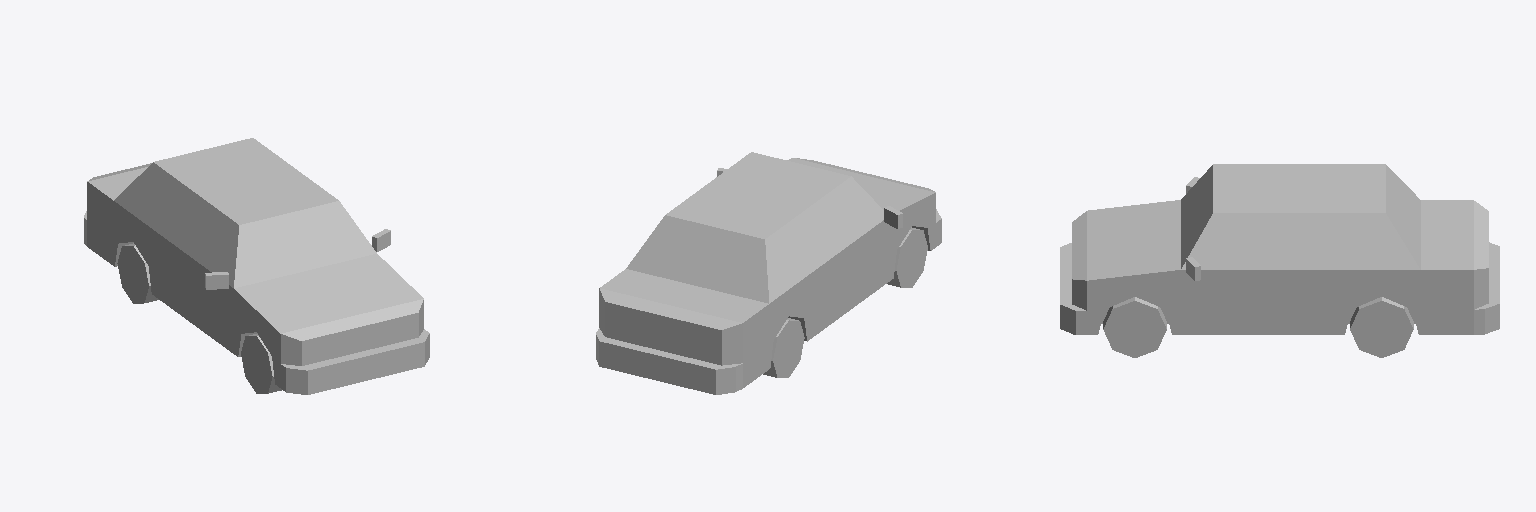
File: sedan_01_red.obj
3 views of the same model, side by side, from view 1: azimuth 30°, elevation 25°; view 2: azimuth 150°, elevation 25°; view 3: azimuth 270°, elevation 25° (orthographic).
Visible parts, largest first — view 1: Sedan_01_Red, Wheel_RR, Wheel_FR; view 2: Sedan_01_Red, Wheel_FR, Wheel_RR; view 3: Sedan_01_Red, Wheel_FL, Wheel_RL.
Part boxes in pixels (x1,y1,x2,y2): Sedan_01_Red: (84, 138, 429, 394); Wheel_RR: (117, 243, 158, 303); Wheel_FR: (241, 334, 281, 393); Sedan_01_Red: (596, 152, 941, 394); Wheel_FR: (887, 227, 927, 287); Wheel_RR: (763, 318, 804, 377); Sedan_01_Red: (1060, 164, 1499, 334); Wheel_FL: (1103, 297, 1166, 357); Wheel_RL: (1350, 297, 1413, 357).
Bounding box in the file's own units: 0.9785 × 0.6816 × 2.02.